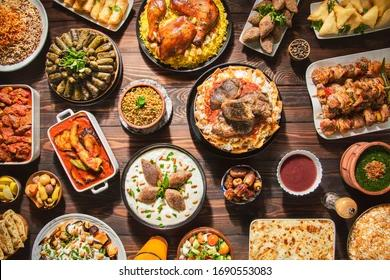Braised Crucian Carp: (187, 62, 281, 158), (305, 44, 388, 140), (121, 142, 206, 229), (135, 0, 231, 74), (46, 106, 121, 193), (45, 27, 121, 105)
